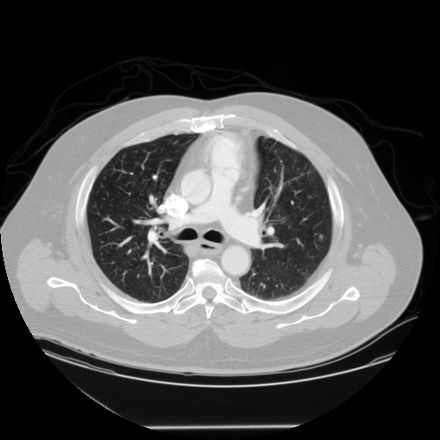nodule: (319, 234, 323, 238)
